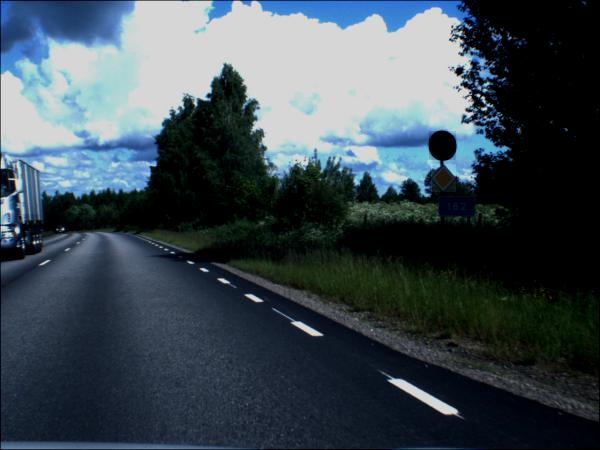80_SIGN: (430, 132, 458, 162)
PRIORITY_ROAD: (432, 165, 458, 194)
